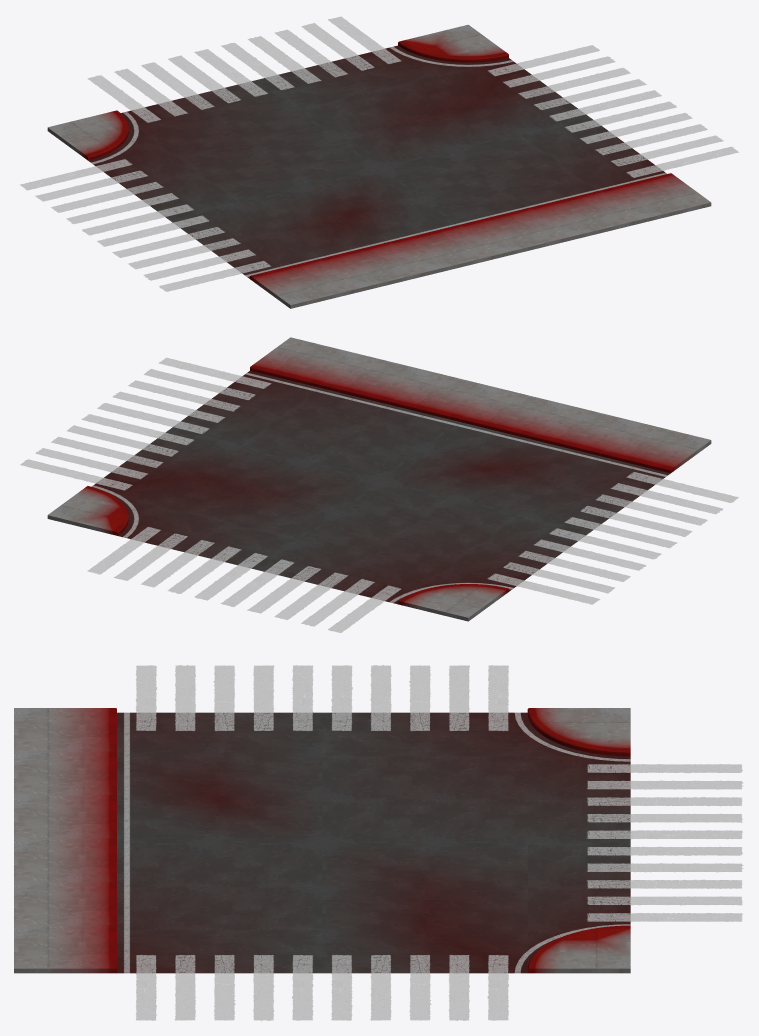
File: Street_TIntersection.glb
3 renders of one model, top to bottom at view 1: azimuth 30°, elevation 25°; view 2: azimuth 150°, elevation 25°; view 3: azimuth 270°, elevation 25°, orthographic. The views are drawn at different scales.
Parts seen in each view (by area): view 1: Street_TIntersection; view 2: Street_TIntersection; view 3: Street_TIntersection.
Part boxes in pixels (left/top/right/bottom): Street_TIntersection: left=20, top=16, right=738, bottom=308; Street_TIntersection: left=20, top=337, right=738, bottom=632; Street_TIntersection: left=14, top=665, right=742, bottom=1020.
Bounding box in the file's own units: 24.67 × 0.1506 × 21.33.
3 materials, 3 textured.
